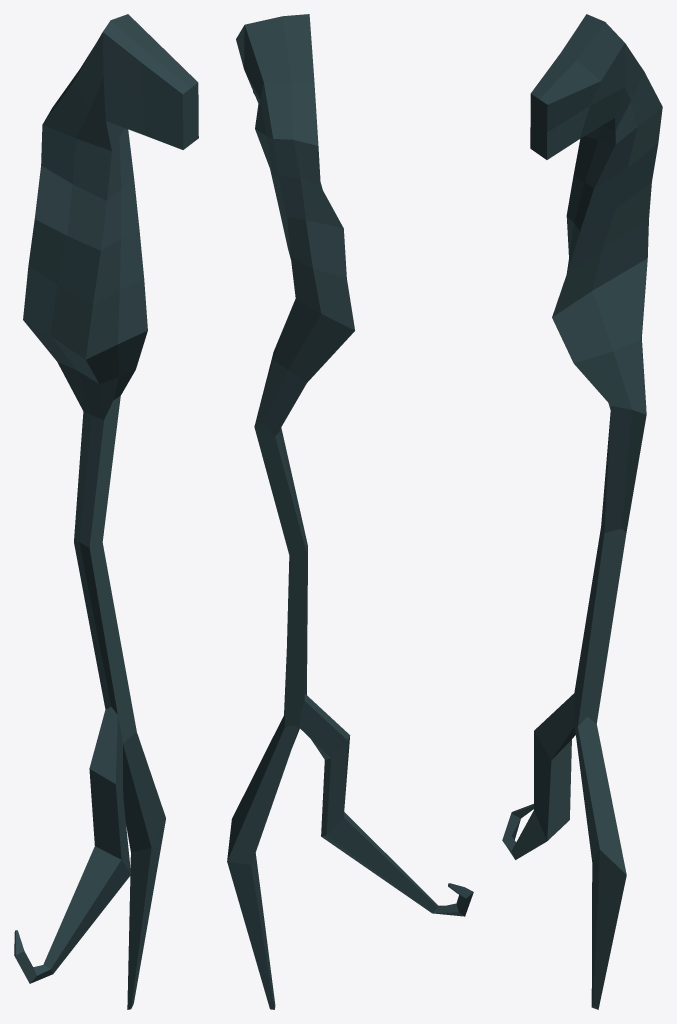
The model's file is Vine_2.fbx.
3 views of the same model, side by side, from view 1: azimuth 30°, elevation 25°; view 2: azimuth 150°, elevation 25°; view 3: azimuth 270°, elevation 25° (orthographic).
Visible parts, largest first — view 1: Vine 2; view 2: Vine 2; view 3: Vine 2.
Boxes of the visible parts, left/top/right/bottom form: Vine 2: left=14, top=14, right=198, bottom=1009; Vine 2: left=227, top=14, right=473, bottom=1009; Vine 2: left=502, top=14, right=662, bottom=1009.
Bounding box in the file's own units: 1125 × 5294 × 785.
